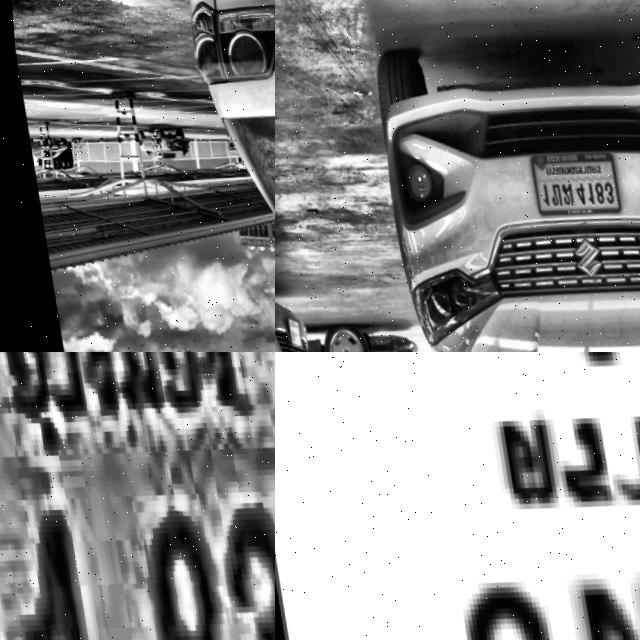license-plate: (275, 352, 640, 640), (0, 352, 275, 640), (525, 142, 620, 222), (279, 312, 301, 351)
